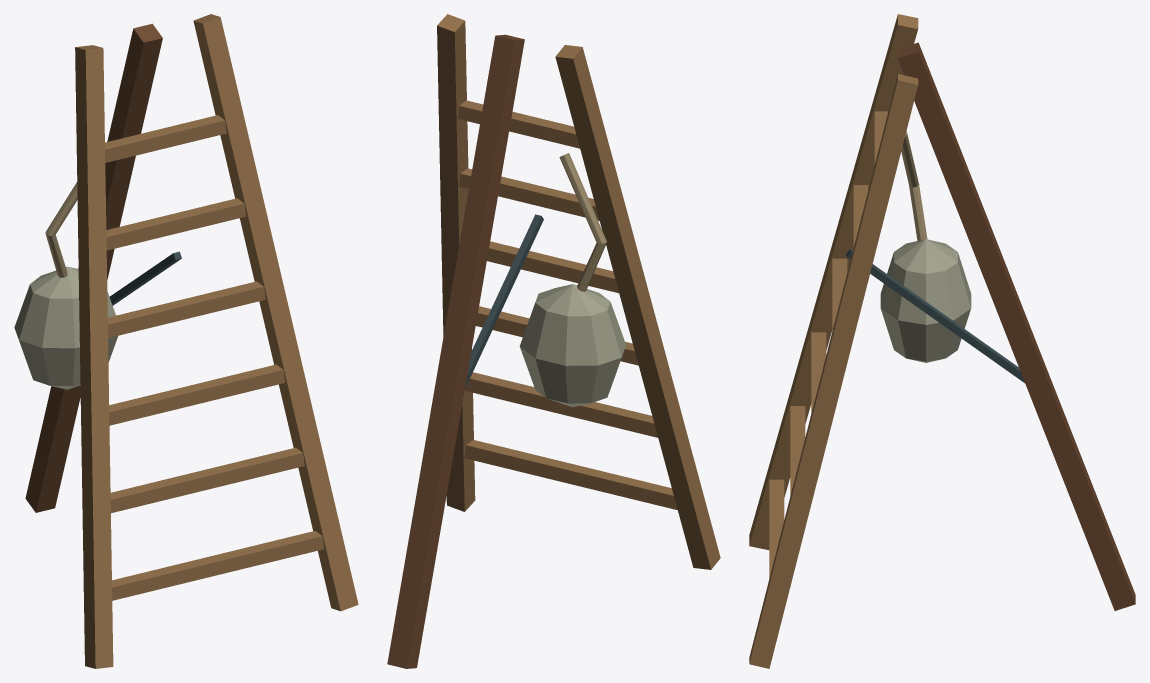
File: Prop_Daily_OrchardLadder_001.glb
The picture shows the model from 3 angles, left to right: view 1: azimuth 30°, elevation 25°; view 2: azimuth 150°, elevation 25°; view 3: azimuth 270°, elevation 25°; orthographic projection.
Parts seen in each view (by area): view 1: Prop_Daily_OrchardLadder_001; view 2: Prop_Daily_OrchardLadder_001; view 3: Prop_Daily_OrchardLadder_001.
Boxes of the visible parts, box(x1,y1,x2,y2) form: Prop_Daily_OrchardLadder_001: box(14, 14, 358, 668); Prop_Daily_OrchardLadder_001: box(387, 14, 720, 668); Prop_Daily_OrchardLadder_001: box(749, 14, 1135, 668).
Size of the model in its own units: 1.03 by 2.08 by 1.3.
